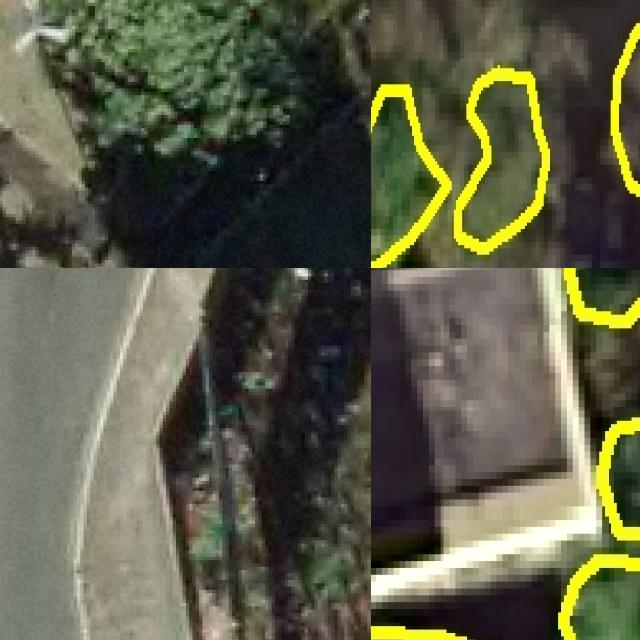trees: (44, 1, 372, 157), (457, 69, 547, 249), (372, 89, 449, 269), (562, 559, 640, 640), (600, 422, 640, 535), (565, 269, 640, 322)
